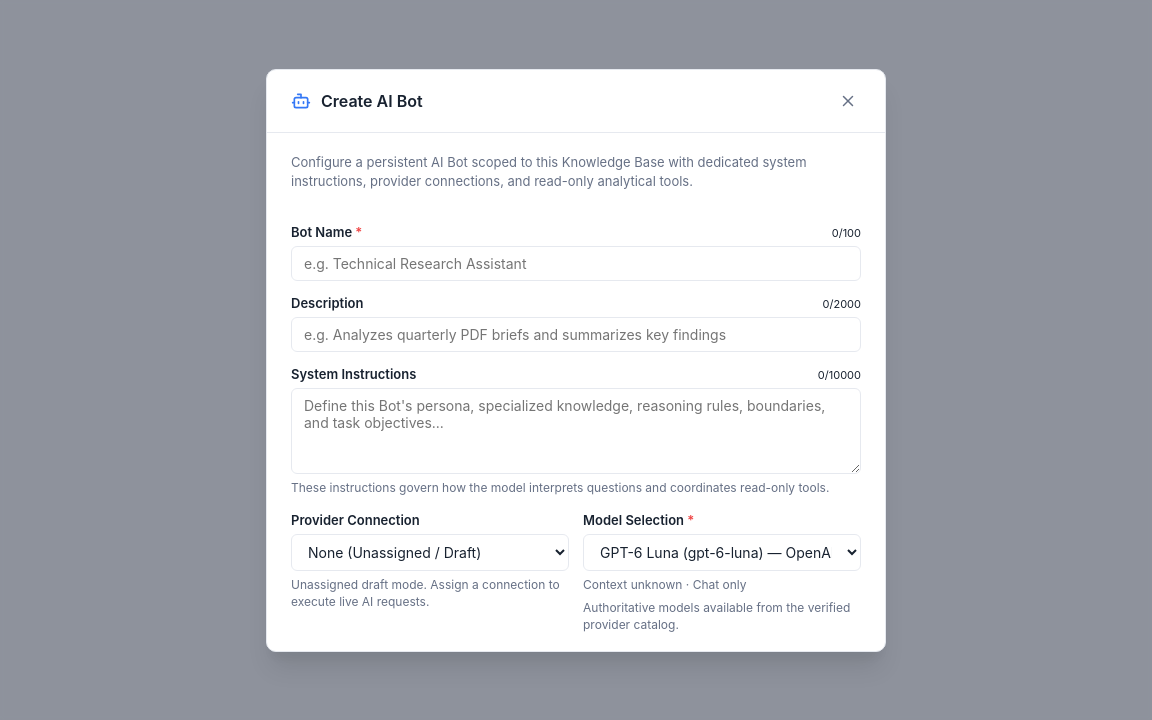
it: Renderer: CreateBotModal (Phase 6 Step 6.5) › 6. keeps modal open and preserves user input when creation rejects
In the field with test id "bot-name-input": [576, 263] box [291, 246, 861, 280], type "Persistent Name"
(page scrolled)
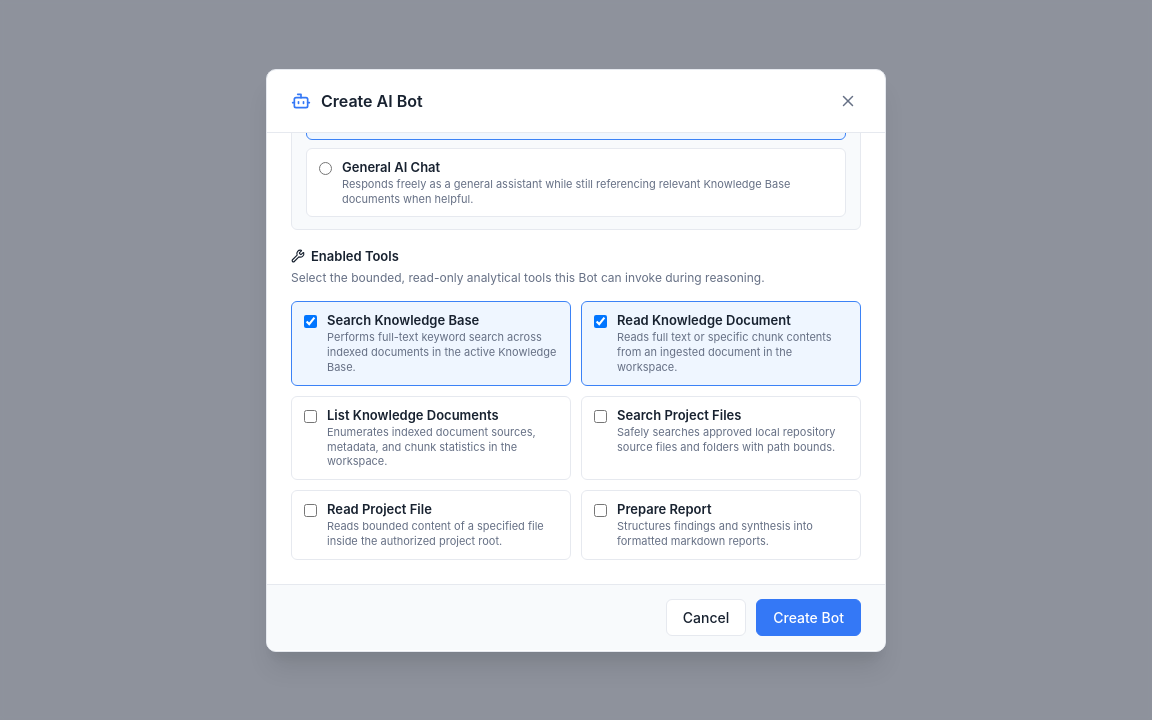
Click the button with test id "bot-form-submit-btn": [809, 618] box [756, 599, 861, 636]
(page scrolled)
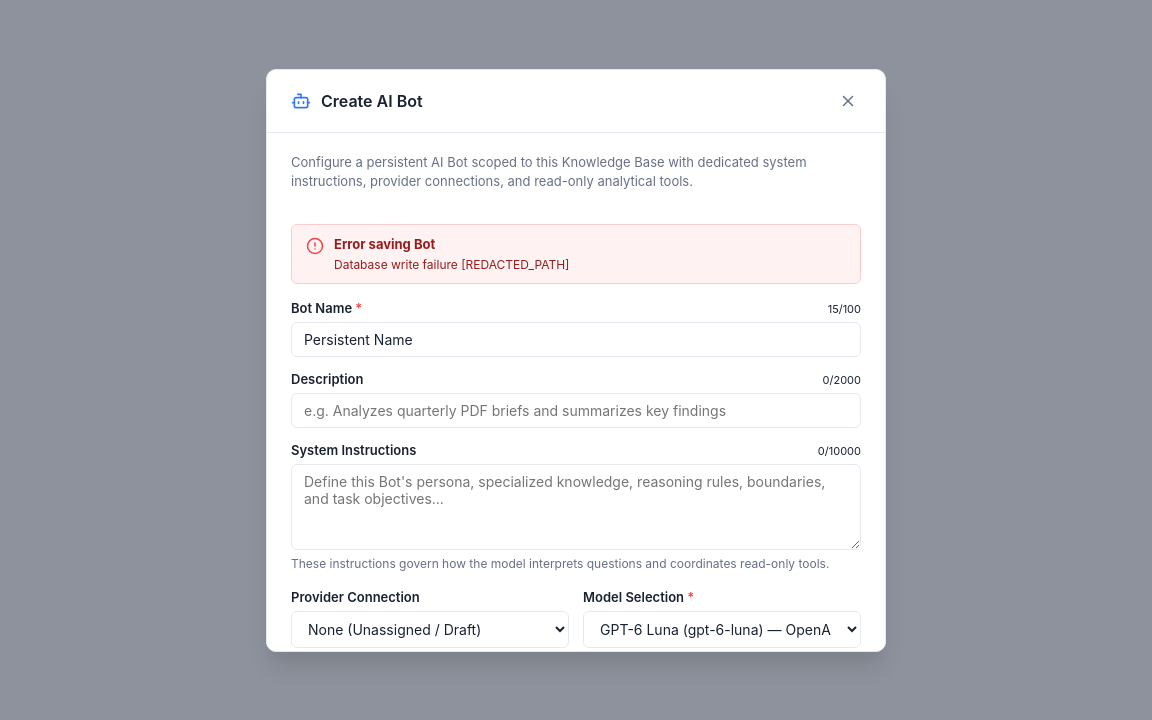
Expected: the dialog with test id "create-bot-modal" is shown, [266, 68, 886, 652]
Expected: the message with test id "bot-form-error" shows "Database write failure [REDACTED_PATH]", [334, 257, 570, 272]
